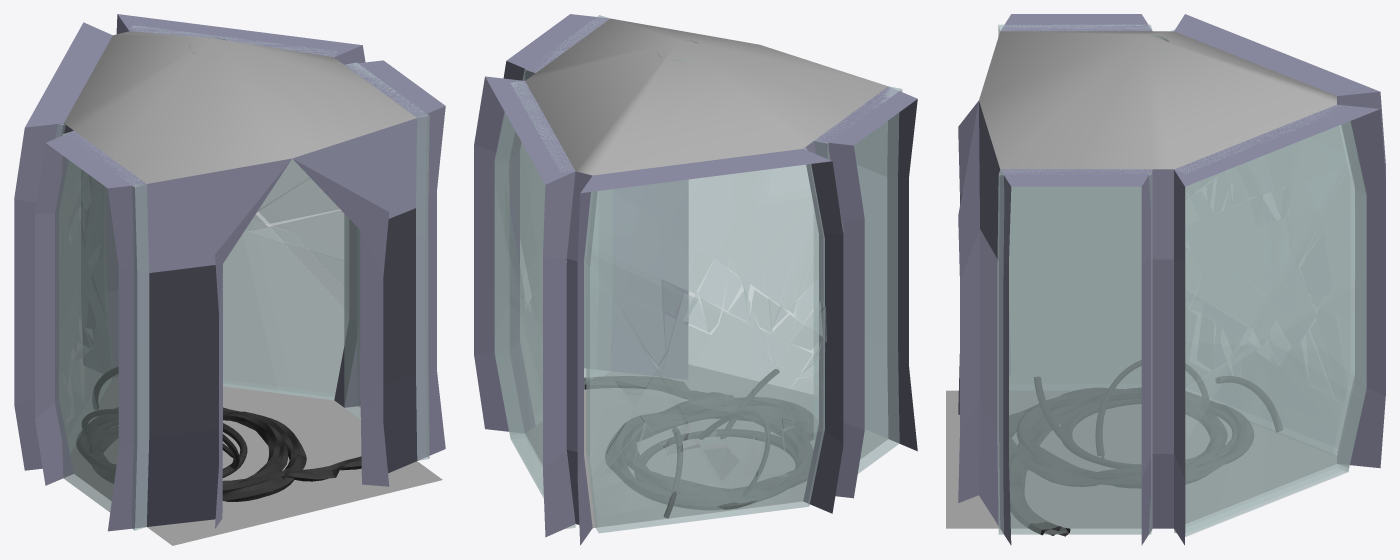
Rendered from tunnel_side_elevator_1.fbx.
3 views of the same model, side by side, from view 1: azimuth 30°, elevation 25°; view 2: azimuth 150°, elevation 25°; view 3: azimuth 270°, elevation 25° (orthographic). The views are drawn at different scales.
Visible parts, largest first — view 1: tunnel_side_elevator1; view 2: tunnel_side_elevator1; view 3: tunnel_side_elevator1.
Part boxes in pixels (left/top/right/bottom): tunnel_side_elevator1: left=14, top=14, right=445, bottom=545; tunnel_side_elevator1: left=474, top=14, right=917, bottom=545; tunnel_side_elevator1: left=946, top=14, right=1385, bottom=545.
Size of the model in its own units: 5.15 by 5.6 by 5.21.
